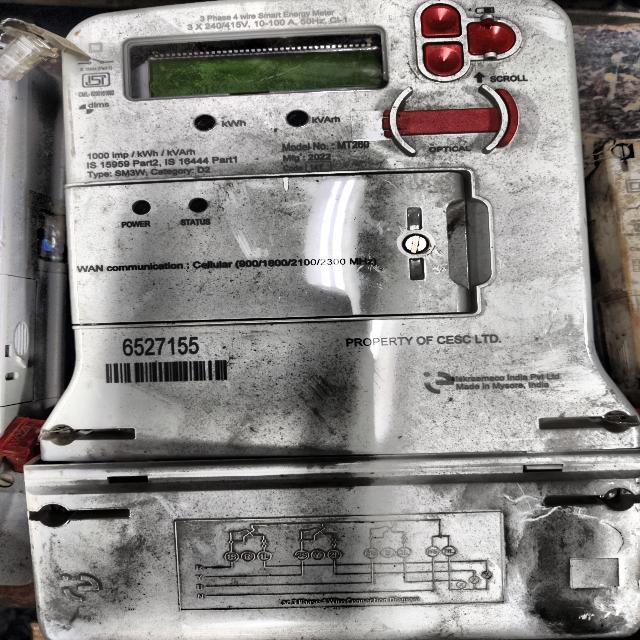Digital: (38, 3, 628, 640)
Reading: (133, 46, 382, 88)
Serial No.: (118, 334, 209, 356)
